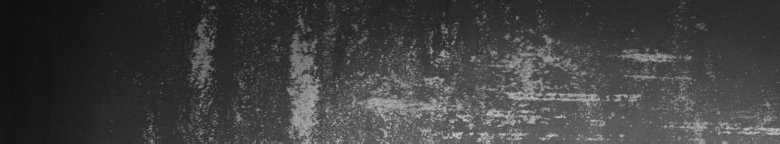kb: (184, 4, 776, 136)
